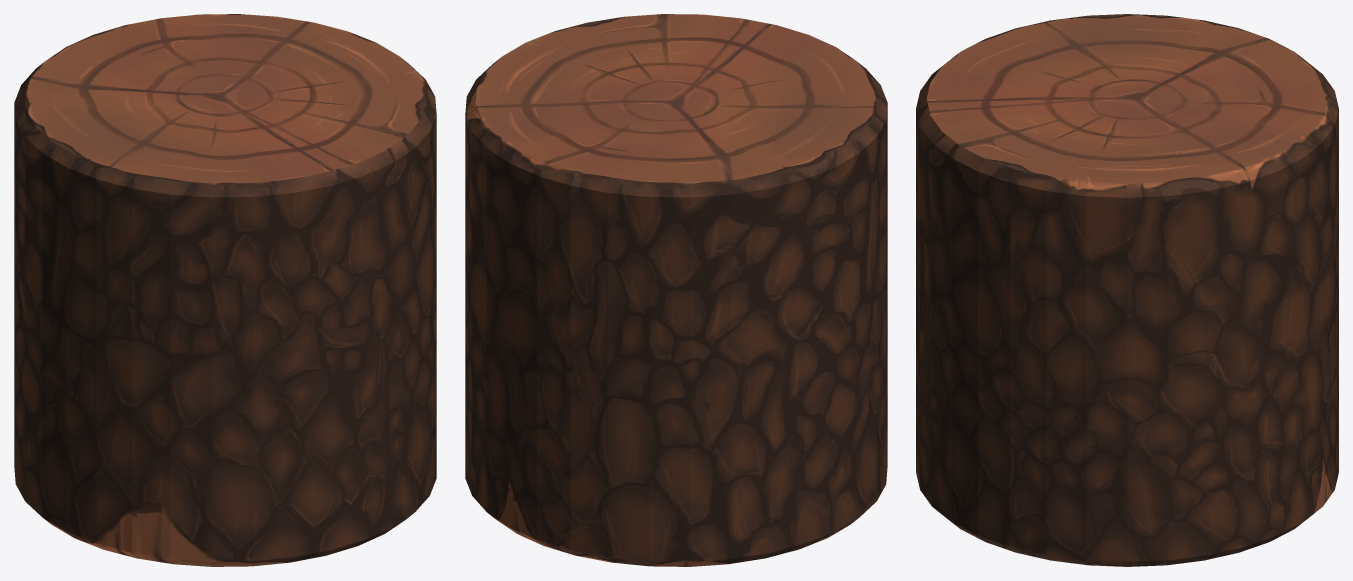
File: Wood_Model.fbx
3 views of the same model, side by side, from view 1: azimuth 30°, elevation 25°; view 2: azimuth 150°, elevation 25°; view 3: azimuth 270°, elevation 25° (orthographic).
Visible parts, largest first — view 1: Wood; view 2: Wood; view 3: Wood.
Part boxes in pixels (x1,y1,x2,y2): Wood: (14, 14, 436, 566); Wood: (465, 14, 887, 566); Wood: (916, 14, 1338, 566).
Bounding box in the file's own units: 200 × 200 × 200.
